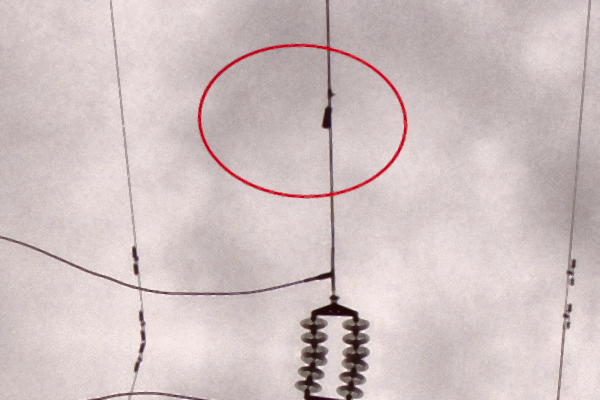damper: (131, 341, 147, 373), (129, 243, 142, 275), (137, 308, 149, 342), (565, 257, 578, 288), (561, 302, 574, 330)
damper_defect: (319, 84, 339, 130)
